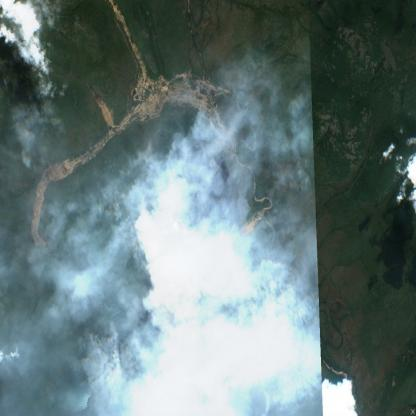fire: (140, 126, 244, 258)
